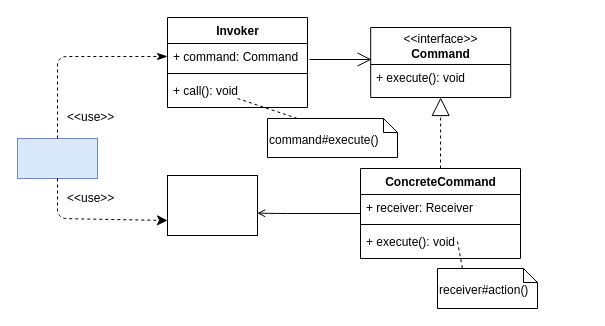
Image size: 605x326. Some labels were removed from this diagram. Each missing label, with the centre of its shape:
"client" belongs at pixel 57 158.
"Receiver + action(): void" belongs at pixel 212 205.
